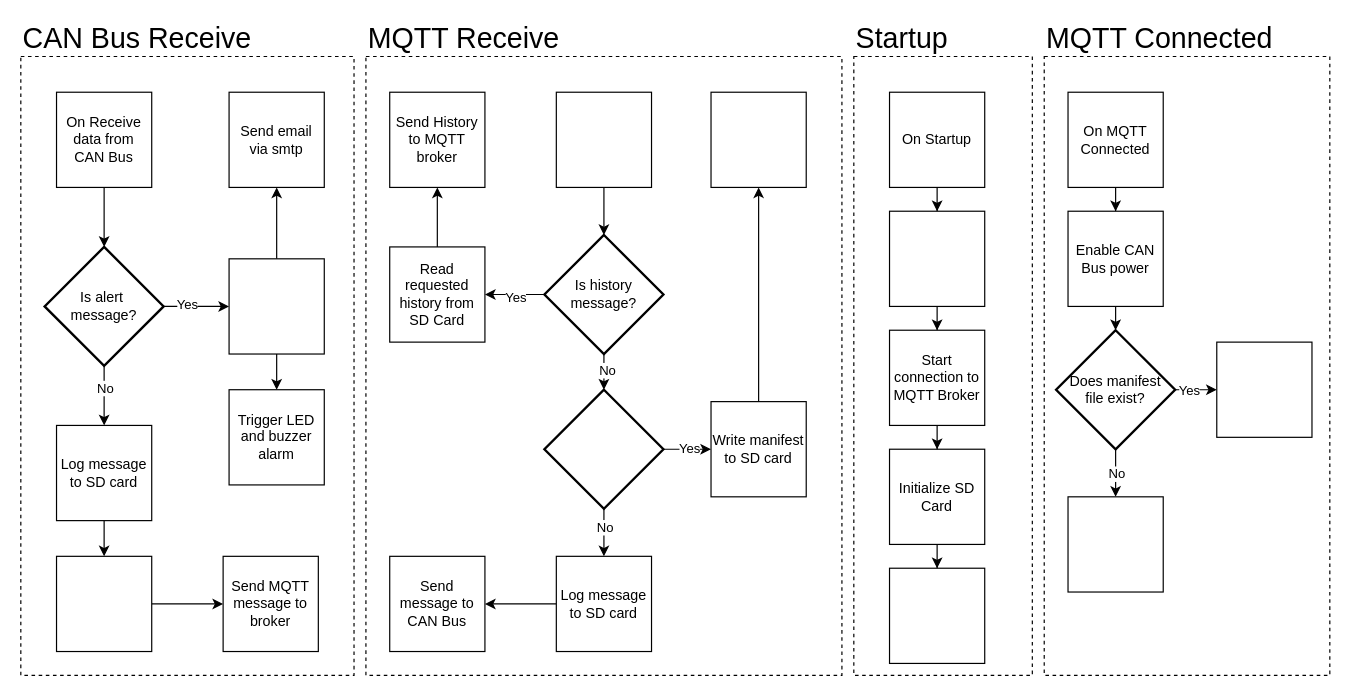
The diagram is 1351 pixels wide and 696 high, and some of its shapes have lost their labels. The shapes that lost their labels are listed below. From the top down, each one's box as (x1, y1, x2, y2) in pixels, then its label:
(555, 91, 652, 187): On MQTT Message received
(710, 91, 806, 187): Send manifest to MQTT broker
(888, 210, 985, 306): Connected to WiFi
(228, 258, 324, 354): Create alert email
(1216, 341, 1312, 437): Send manifest file to MQTT
(543, 388, 664, 509): Is manifest message?
(1067, 496, 1163, 592): Send blank manifest file to MQTT
(55, 555, 152, 652): Add time to CAN data and create MQTT message
(888, 567, 985, 663): Initialize CAN Bus
